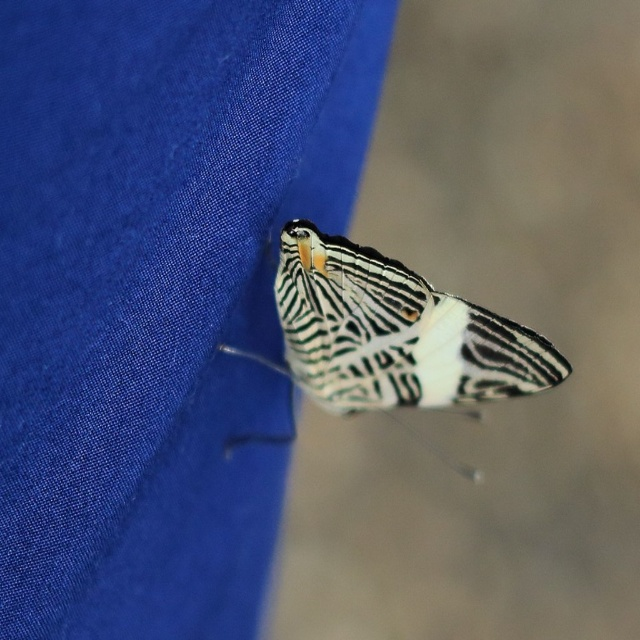Moths and butterflies: (219, 217, 576, 488)
